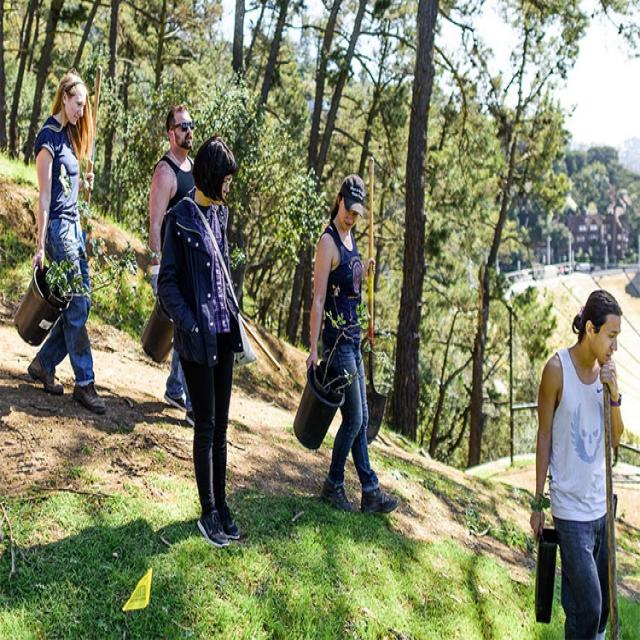body: (290, 154, 402, 521), (154, 130, 248, 552), (528, 280, 630, 639), (11, 62, 110, 414), (147, 101, 196, 434)
